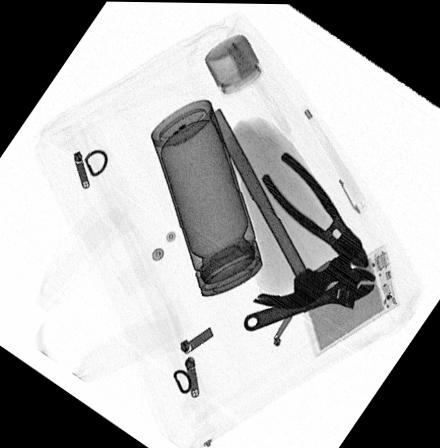Hammer: (209, 108, 352, 309)
Pliers: (260, 149, 369, 268)
Powerbank: (298, 244, 400, 358)
Wrench: (242, 265, 375, 331)
